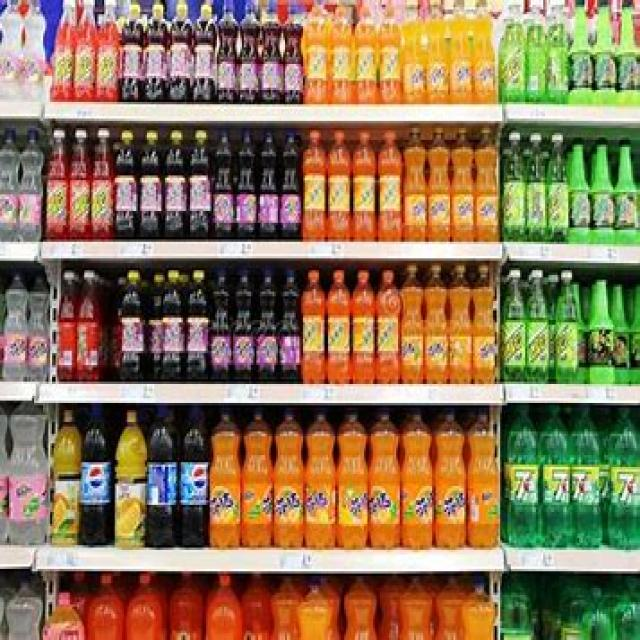7up: (548, 412, 577, 556), (508, 416, 538, 546), (608, 428, 640, 548)
fanta: (359, 413, 408, 553), (435, 412, 467, 566), (244, 418, 278, 548), (312, 416, 338, 572), (214, 422, 242, 557), (279, 416, 305, 552), (474, 143, 504, 249), (428, 269, 446, 393), (430, 139, 450, 244)
